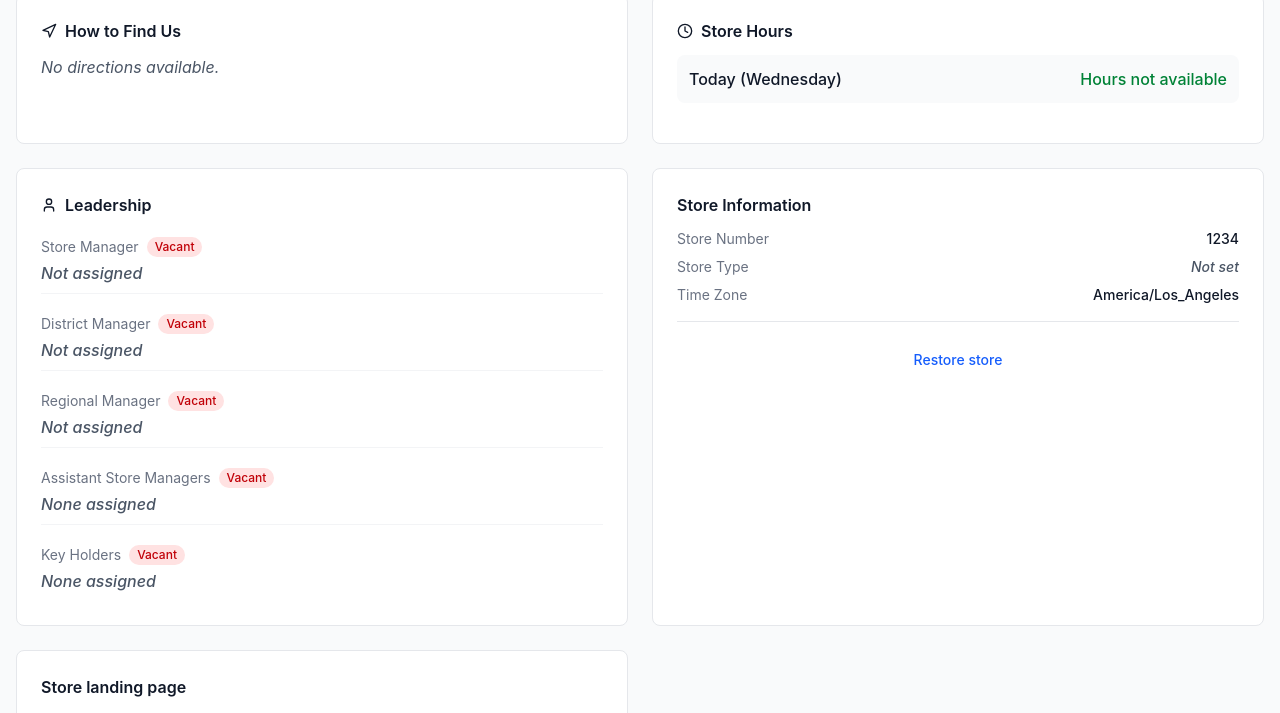
Test: LocationDetailView close and restore › posts to the reactivate route and shows the success toast
The image size is (1280, 713).
(page scrolled)
Click the button "Restore store": (958, 360) x1=677 y1=338 x2=1239 y2=382
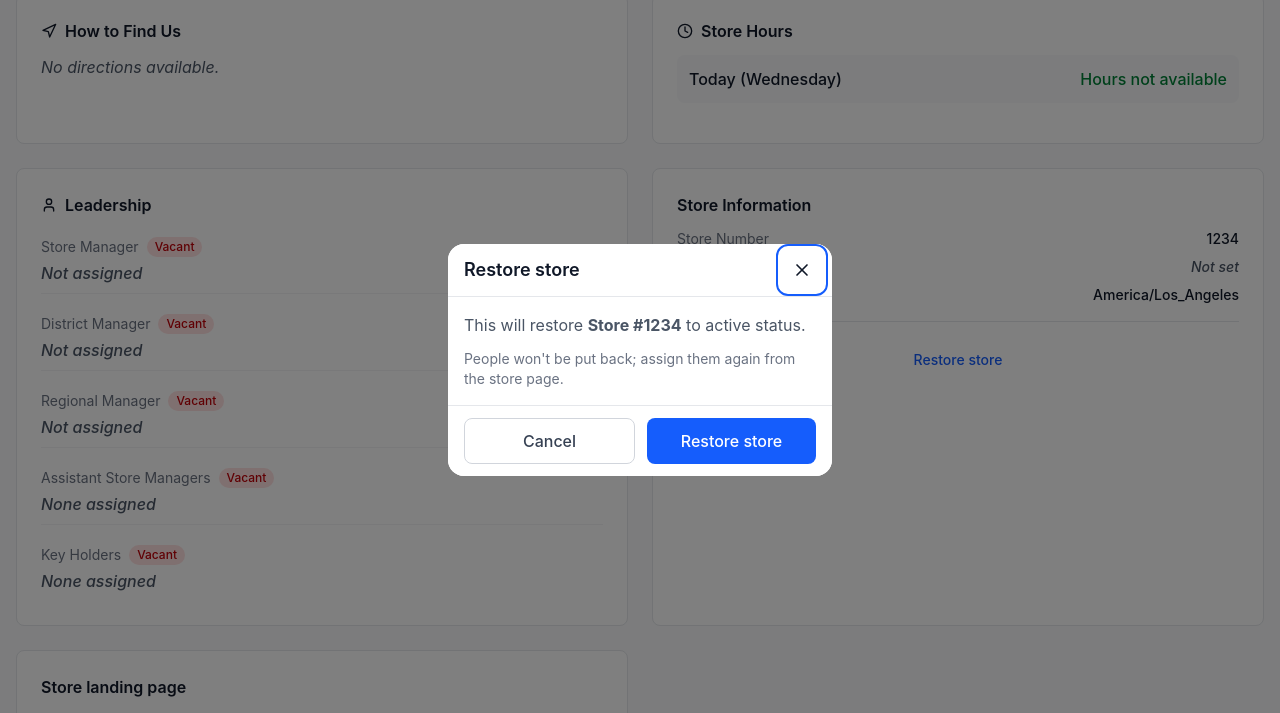
Click the button "Restore store": (732, 441) x1=647 y1=418 x2=816 y2=464
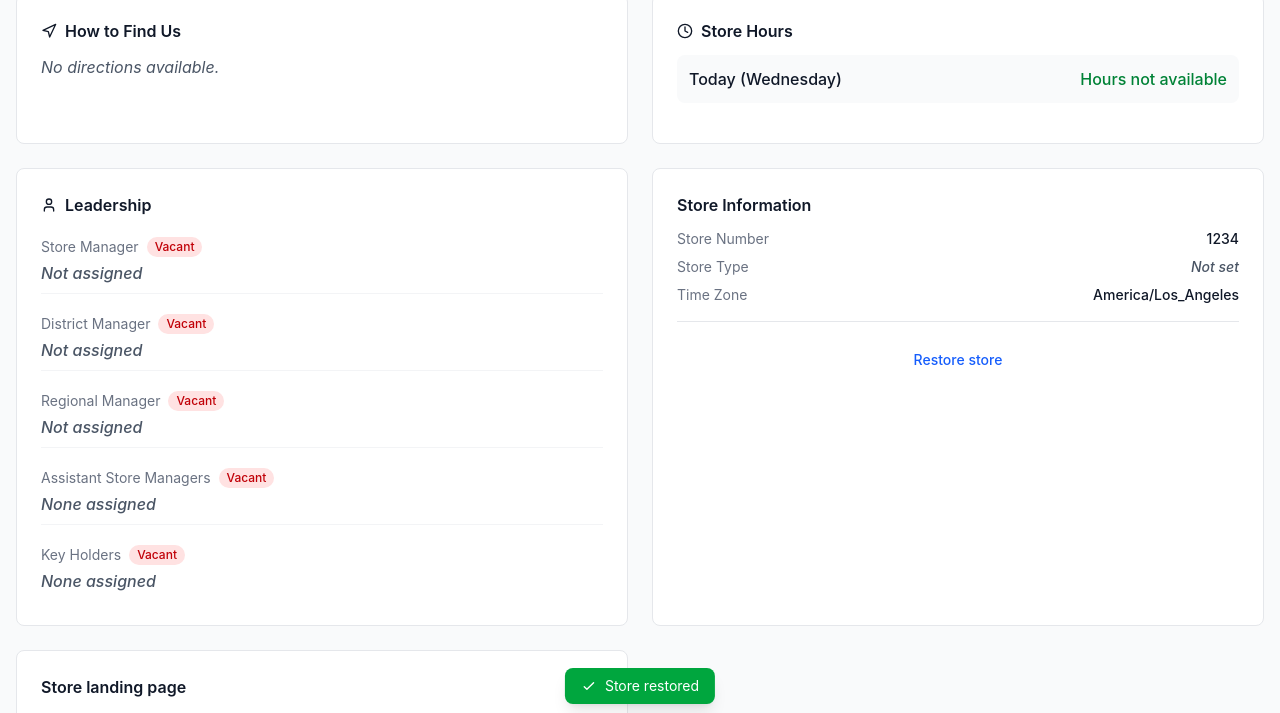
Now the text "Store restored" is shown, box x1=565 y1=668 x2=715 y2=704
